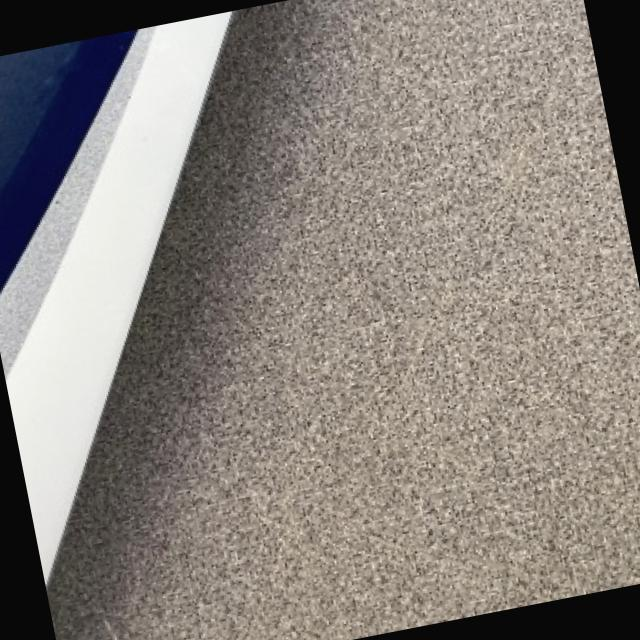healthy: (48, 0, 640, 640)
